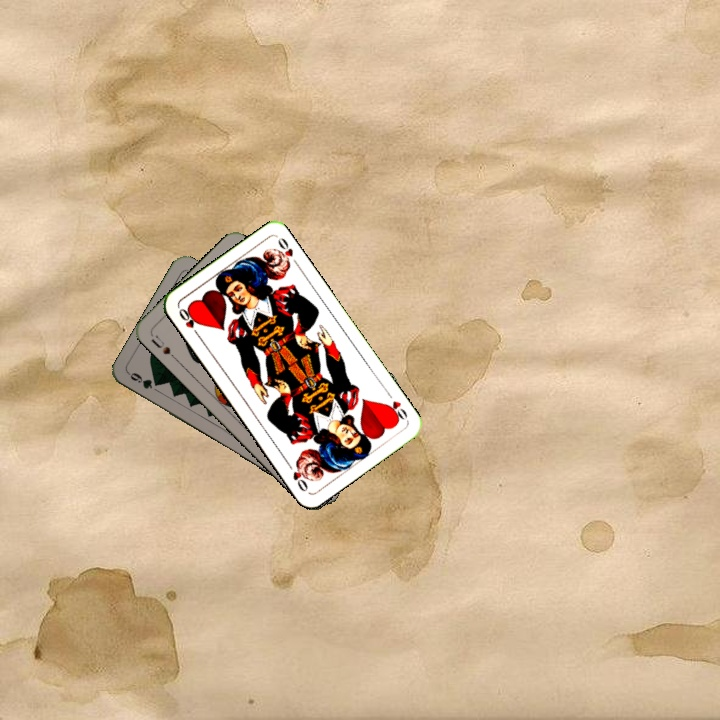G9: (125, 368, 162, 395)
HO: (175, 304, 202, 340), (382, 397, 410, 425)
SU: (147, 331, 179, 363)
